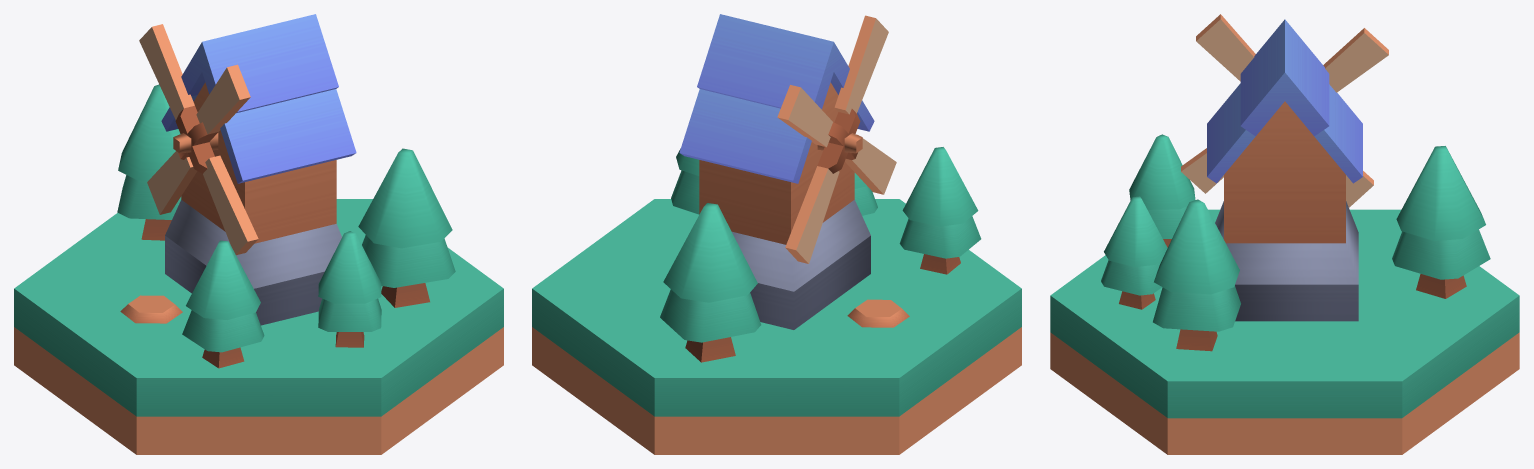
The model's file is building-mill.gltf.
3 renders of one model, left to right at view 1: azimuth 30°, elevation 25°; view 2: azimuth 150°, elevation 25°; view 3: azimuth 270°, elevation 25°, orthographic. The views are drawn at different scales.
Parts seen in each view (by area): view 1: building_mill, rotate_x; view 2: building_mill, rotate_x; view 3: building_mill, rotate_x.
Part boxes in pixels (x1,y1,x2,y2): building_mill: (14,14,503,454); rotate_x: (139,24,258,255); building_mill: (532,14,1021,454); rotate_x: (777,15,896,263); building_mill: (1050,19,1519,454); rotate_x: (1181,14,1388,207).
Bounding box in the file's own units: 1 × 0.8811 × 1.15.
1 material, 1 textured.
